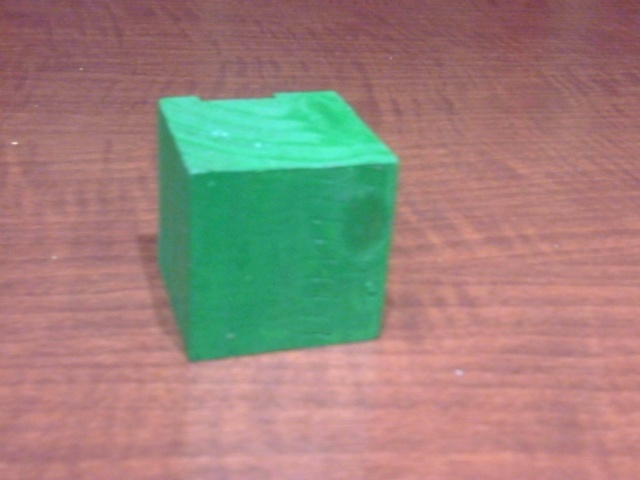GreenBlock: (155, 91, 397, 360)
